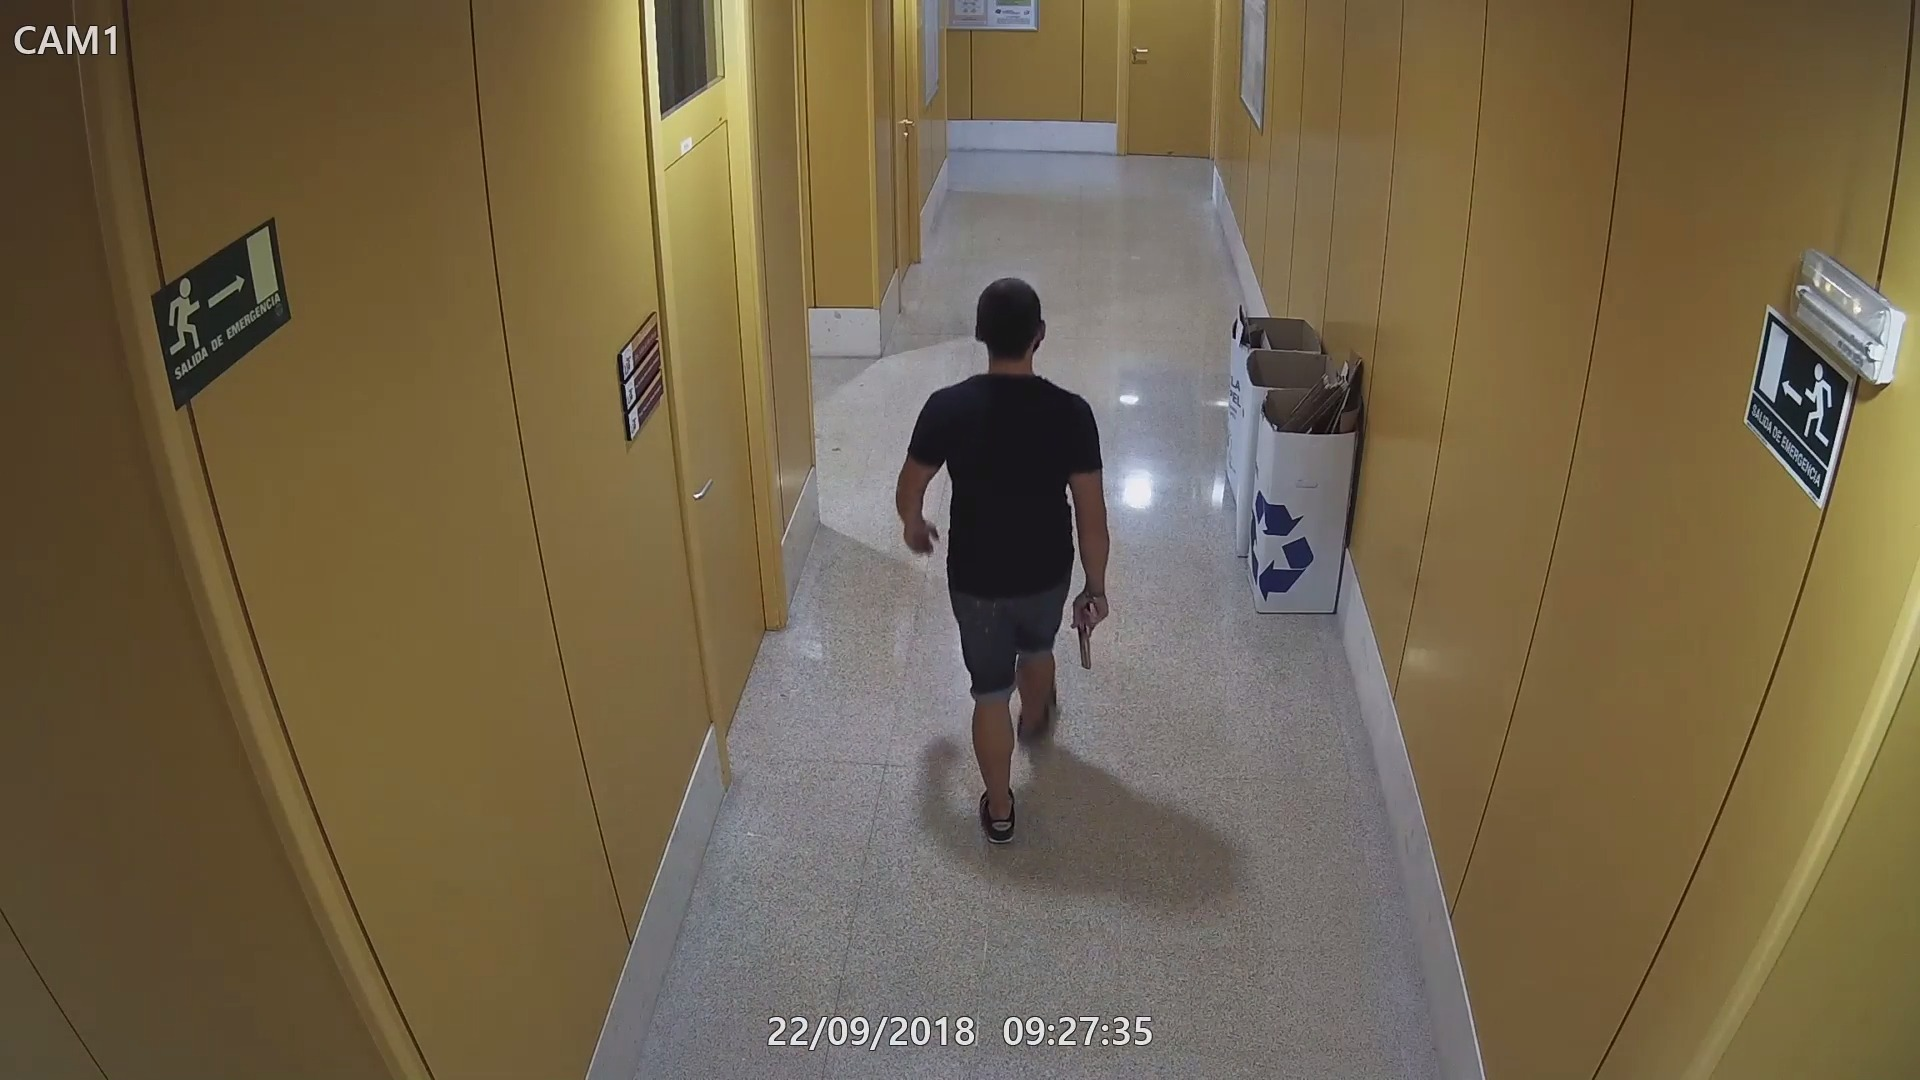Handgun: (1071, 585, 1112, 673)
